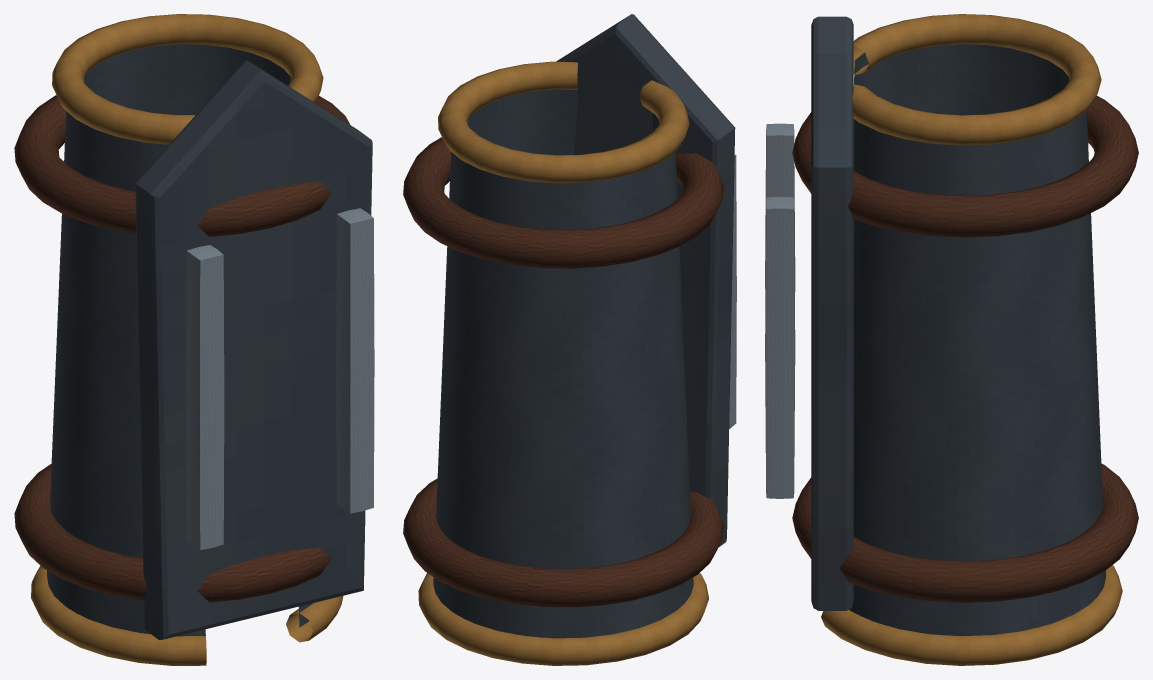
3 views of the same model, side by side, from view 1: azimuth 30°, elevation 25°; view 2: azimuth 150°, elevation 25°; view 3: azimuth 270°, elevation 25° (orthographic). The views are drawn at different scales.
Parts seen in each view (by area): view 1: iron.5, iron.0, brass.2, leather.4, steel.7, steel.6, leather.3, brass.1; view 2: iron.0, iron.5, leather.4, leather.3, brass.2, brass.1, steel.6; view 3: iron.0, iron.5, brass.2, leather.4, leather.3, brass.1, steel.7, steel.6.
Boxes of the visible parts, bbox=[...] form: iron.5: bbox=[135, 60, 372, 639]; iron.0: bbox=[47, 44, 312, 636]; brass.2: bbox=[52, 14, 323, 144]; leather.4: bbox=[14, 95, 350, 236]; steel.7: bbox=[336, 208, 374, 513]; steel.6: bbox=[186, 245, 224, 550]; leather.3: bbox=[14, 464, 331, 602]; brass.1: bbox=[31, 566, 343, 665]; iron.0: bbox=[433, 76, 693, 638]; iron.5: bbox=[556, 14, 735, 547]; leather.4: bbox=[403, 137, 723, 268]; leather.3: bbox=[403, 478, 723, 607]; brass.2: bbox=[438, 61, 689, 183]; brass.1: bbox=[418, 573, 708, 665]; steel.6: bbox=[729, 154, 736, 428]; iron.0: bbox=[849, 44, 1105, 636]; iron.5: bbox=[811, 16, 853, 610]; brass.2: bbox=[852, 14, 1101, 145]; leather.4: bbox=[792, 96, 1138, 237]; leather.3: bbox=[792, 463, 1138, 602]; brass.1: bbox=[821, 565, 1122, 665]; steel.7: bbox=[765, 196, 795, 498]; steel.6: bbox=[765, 123, 795, 291].
Size of the model in its own units: 0.172 by 0.3226 by 0.1855.
Materials: 4 (4 with a texture image).
